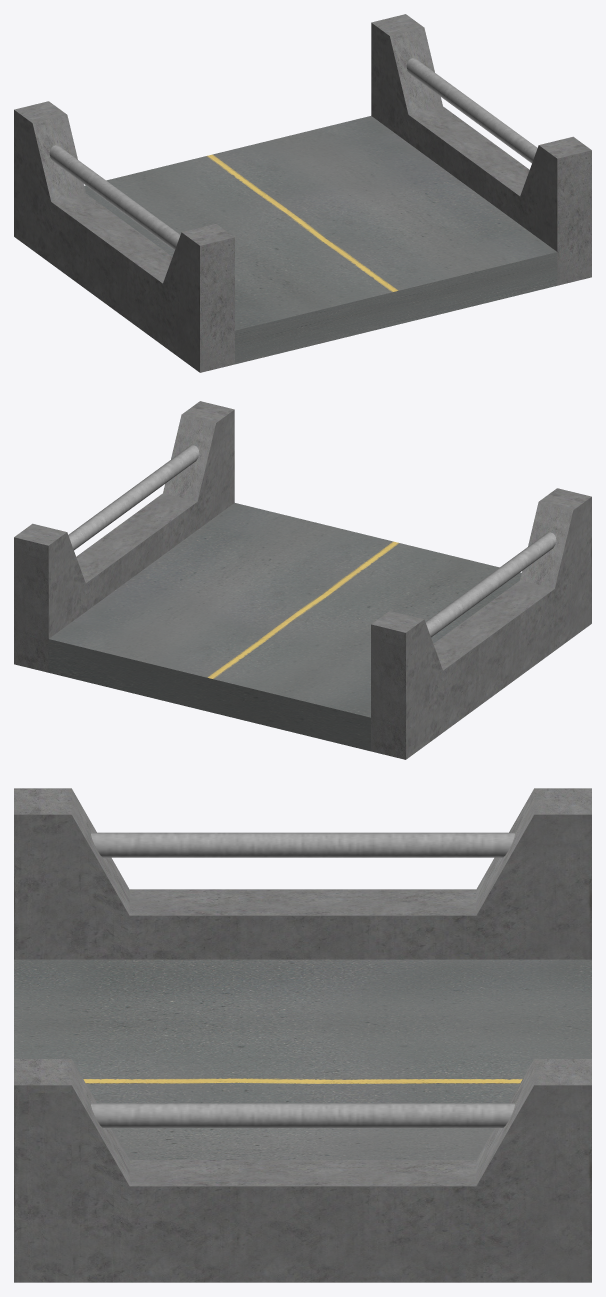
File: bridgeroad.obj
3 views of the same model, one above another, from view 1: azimuth 30°, elevation 25°; view 2: azimuth 150°, elevation 25°; view 3: azimuth 270°, elevation 25° (orthographic). The views are drawn at different scales.
Parts seen in each view (by area): view 1: Mesh; view 2: Mesh; view 3: Mesh.
Boxes of the visible parts, bbox=[...] form: Mesh: bbox=[14, 14, 591, 372]; Mesh: bbox=[14, 401, 591, 759]; Mesh: bbox=[14, 788, 591, 1282].
Bounding box in the file's own units: 1.22 × 0.3765 × 1.
